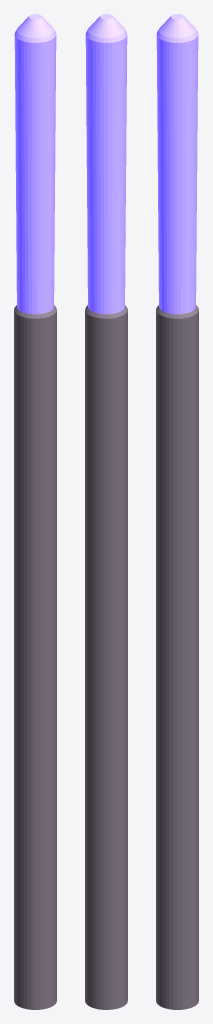
File: LightPod.fbx
3 renders of one model, left to right at view 1: azimuth 90°, elevation 25°; view 2: azimuth 150°, elevation 25°; view 3: azimuth 270°, elevation 25°, orthographic.
Parts seen in each view (by area): view 1: Cylinder; view 2: Cylinder; view 3: Cylinder.
Part boxes in pixels (x1,y1,x2,y2): Cylinder: (14,14,56,1009); Cylinder: (85,14,127,1009); Cylinder: (156,14,198,1009).
Size of the model in its own units: 7.52 by 191 by 7.52.
